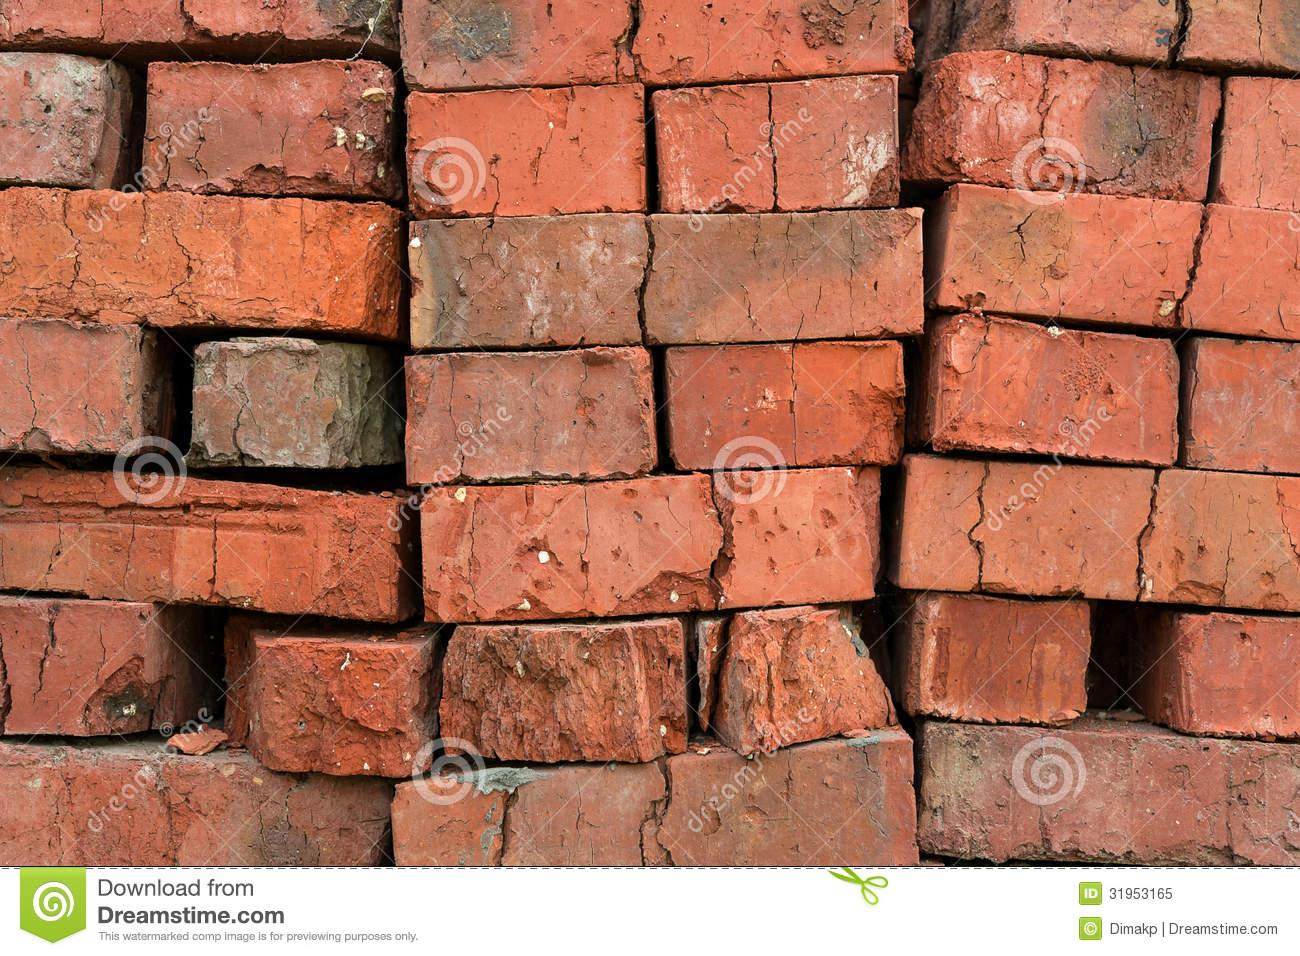brick: (440, 603, 896, 763), (420, 465, 881, 622), (409, 206, 923, 345), (393, 736, 918, 867), (898, 452, 1300, 610), (1, 465, 402, 621), (0, 185, 401, 331), (938, 184, 1300, 340), (918, 724, 1300, 867), (902, 50, 1221, 200), (0, 741, 383, 865), (401, 0, 914, 89), (932, 313, 1178, 464), (405, 347, 657, 485), (144, 59, 395, 194), (653, 75, 899, 211), (406, 83, 648, 218), (668, 341, 905, 469), (250, 638, 425, 777), (904, 594, 1092, 723), (954, 2, 1300, 71), (189, 337, 358, 469), (1, 597, 154, 736), (1, 317, 141, 452), (0, 0, 397, 47), (1177, 612, 1300, 737), (1186, 340, 1300, 472), (0, 52, 110, 185), (1217, 78, 1300, 211)
